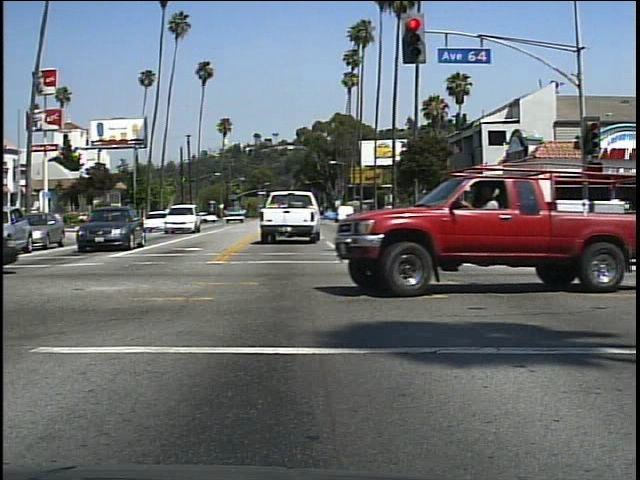person: (472, 179, 512, 294), (476, 199, 502, 236)
